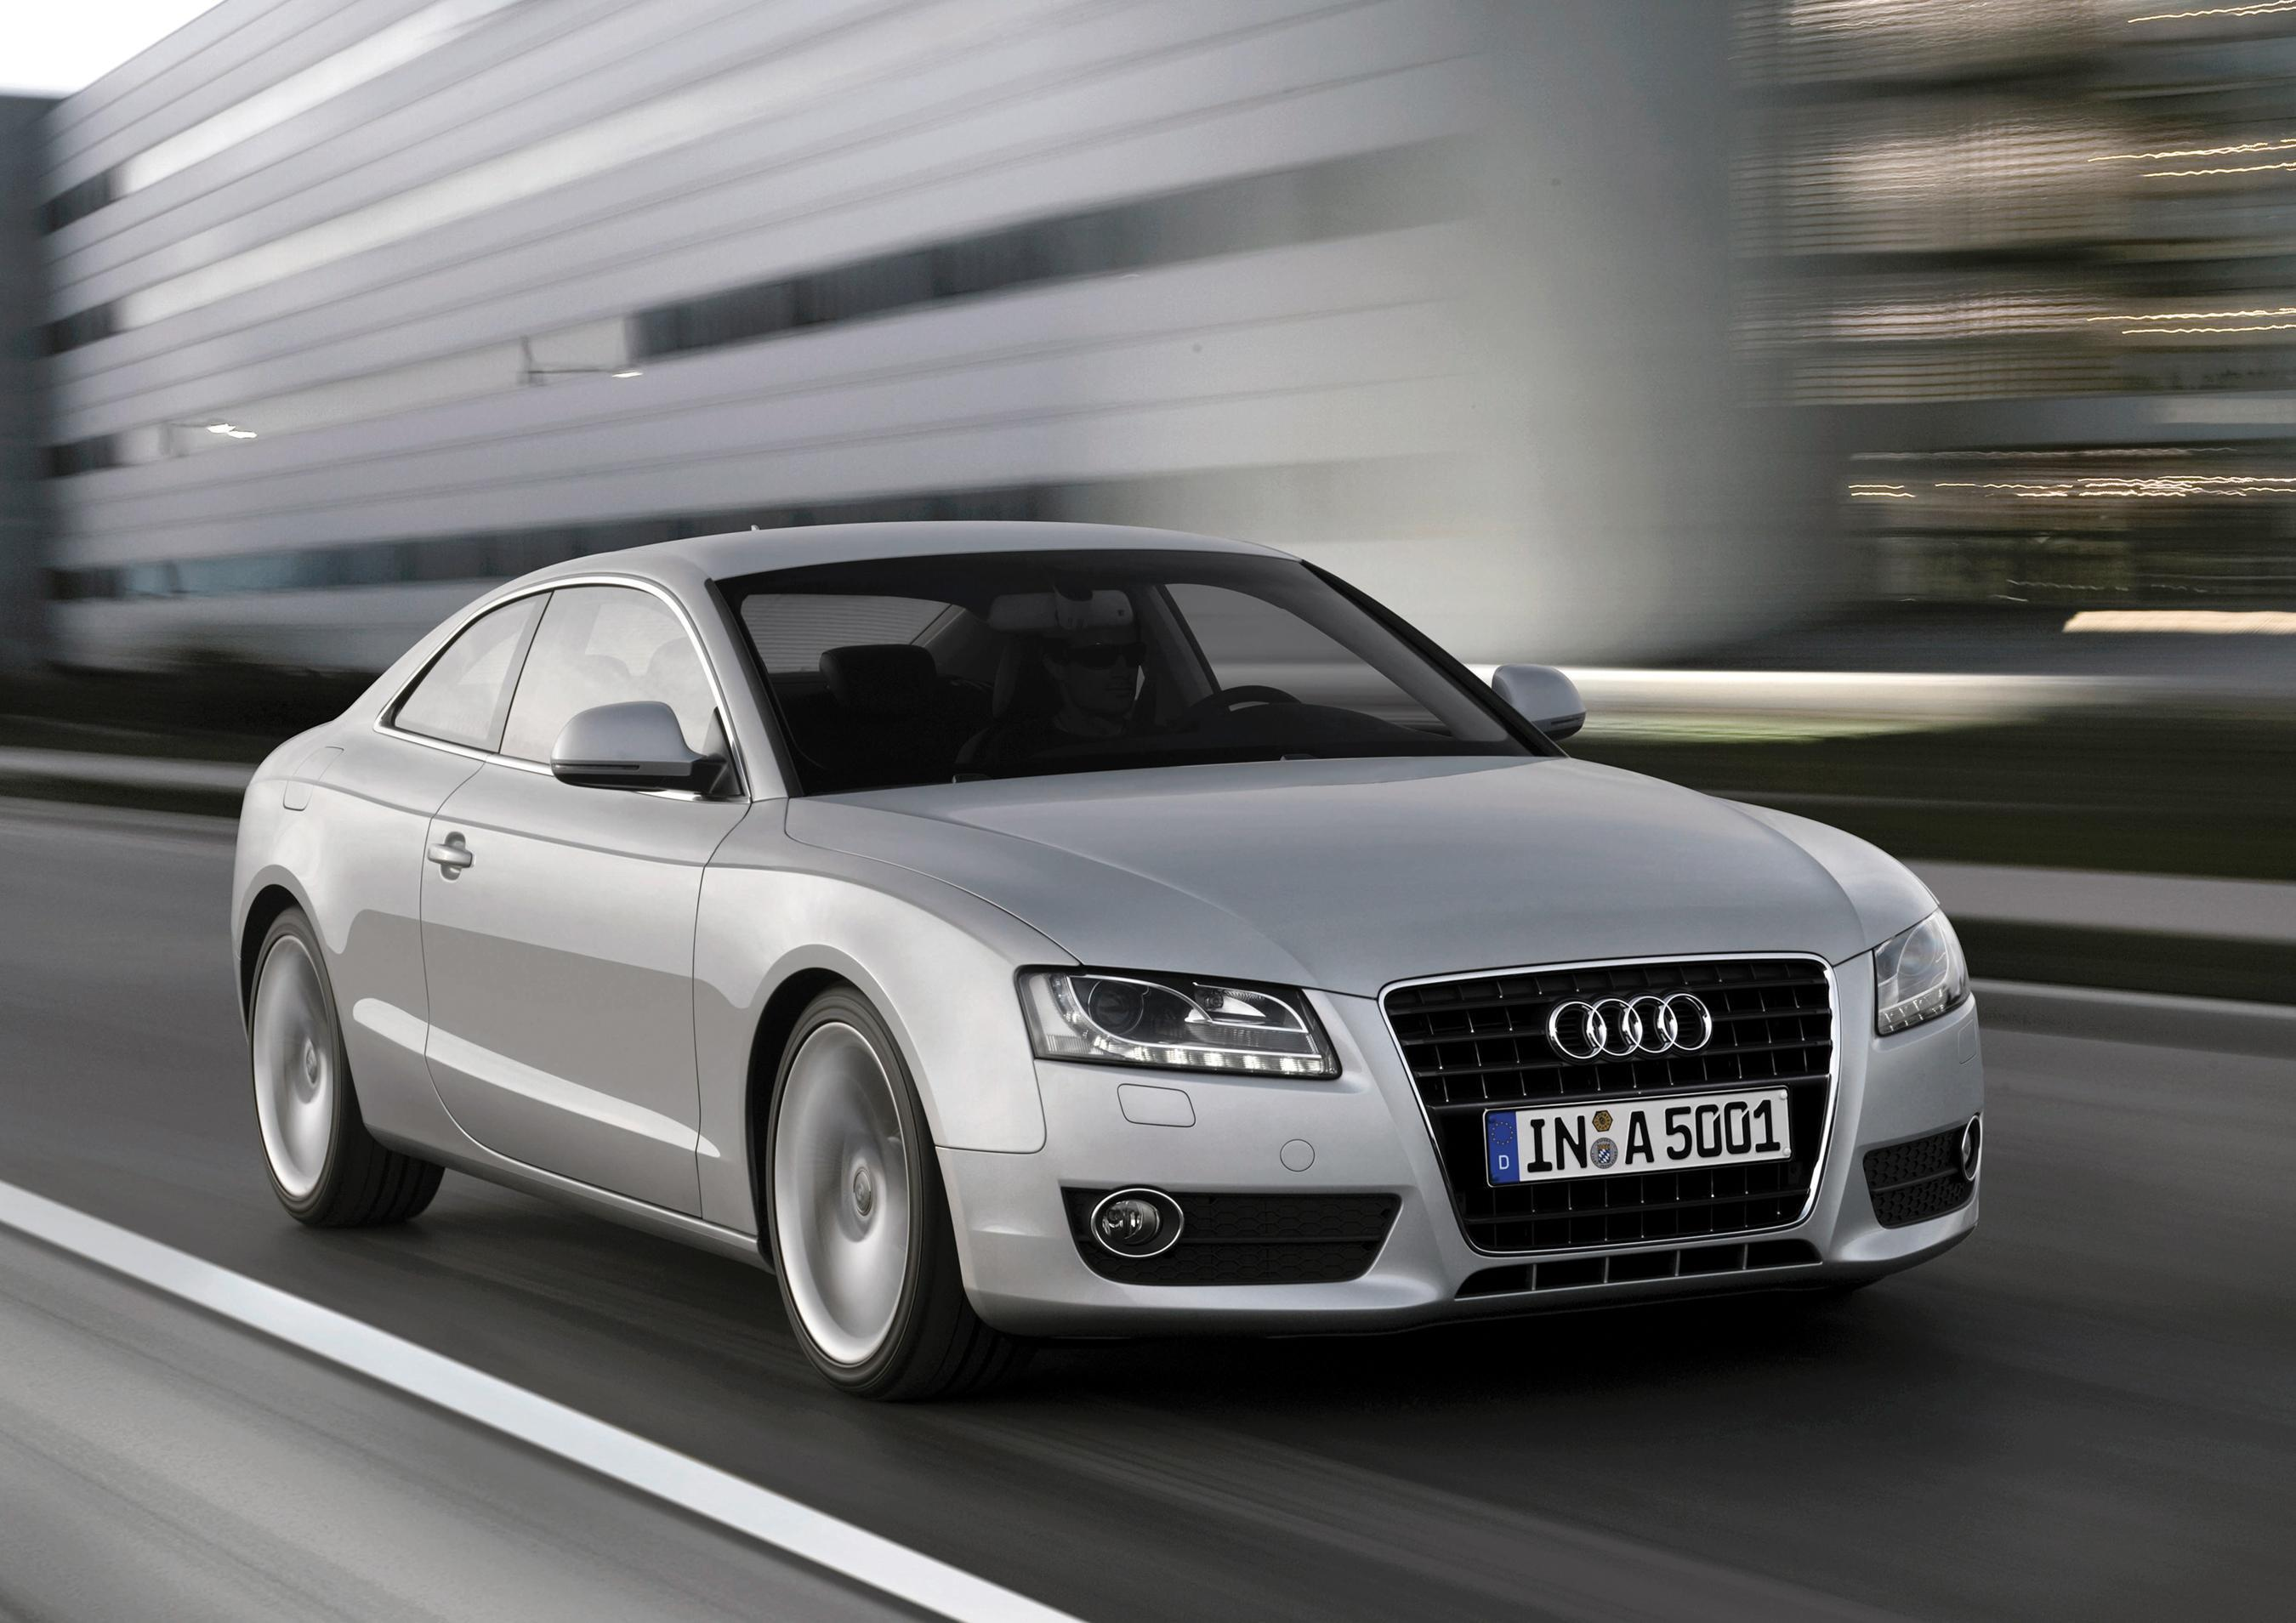Audi: (1511, 970, 1743, 1087)
